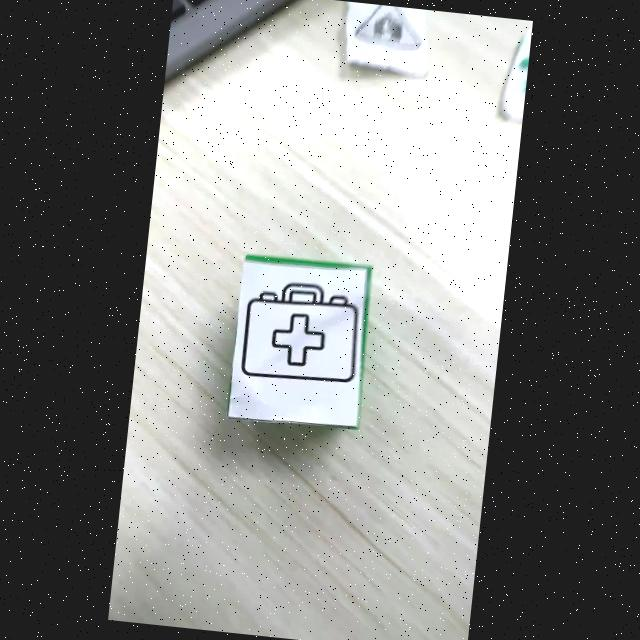Medkit: (240, 280, 357, 382)
